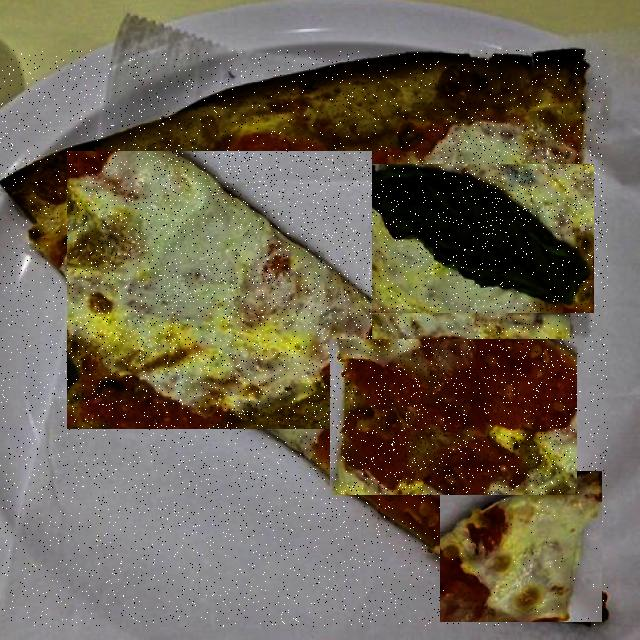Basil: (356, 164, 594, 313)
Cheese: (67, 151, 372, 429), (440, 471, 602, 622), (435, 117, 604, 230)
Pizza: (0, 50, 608, 627)
Tomato: (330, 339, 577, 495)
